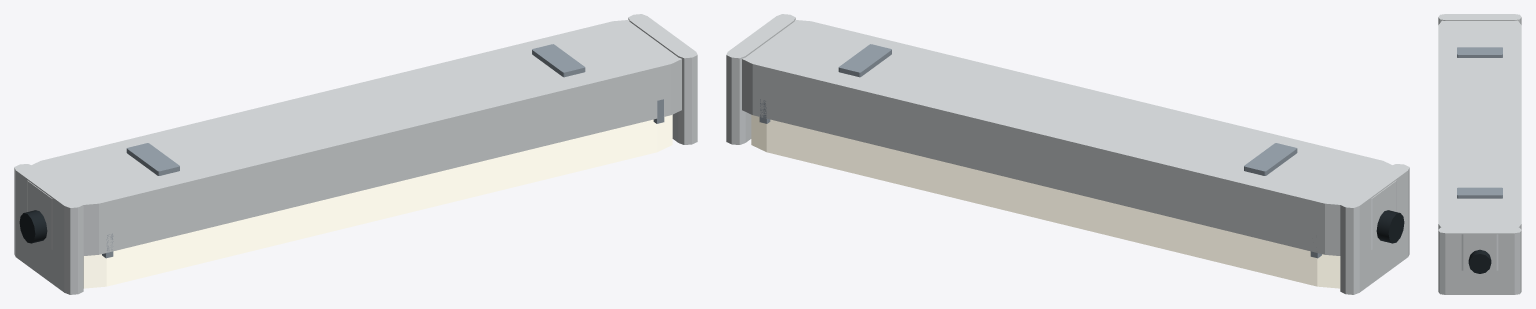
The model's file is source.glb.
3 renders of one model, left to right at view 1: azimuth 30°, elevation 25°; view 2: azimuth 150°, elevation 25°; view 3: azimuth 270°, elevation 25°, orthographic. The views are drawn at different scales.
Parts seen in each view (by area): view 1: 粉末涂层铝壳, Emitters, 机加工金属, 密封及绝缘件; view 2: 粉末涂层铝壳, Emitters, 机加工金属, 密封及绝缘件; view 3: 粉末涂层铝壳, 机加工金属, 密封及绝缘件.
Part boxes in pixels (x1,y1,x2,y2): 粉末涂层铝壳: (14, 14, 697, 294); Emitters: (83, 114, 672, 288); 机加工金属: (102, 44, 664, 258); 密封及绝缘件: (19, 210, 47, 243); 粉末涂层铝壳: (726, 14, 1409, 294); Emitters: (751, 114, 1340, 288); 机加工金属: (759, 44, 1321, 258); 密封及绝缘件: (1376, 210, 1404, 243); 粉末涂层铝壳: (1438, 14, 1521, 294); 机加工金属: (1457, 47, 1502, 198); 密封及绝缘件: (1468, 249, 1491, 273).
Bounding box in the file's own units: 0.6228 × 0.0839 × 0.096.
